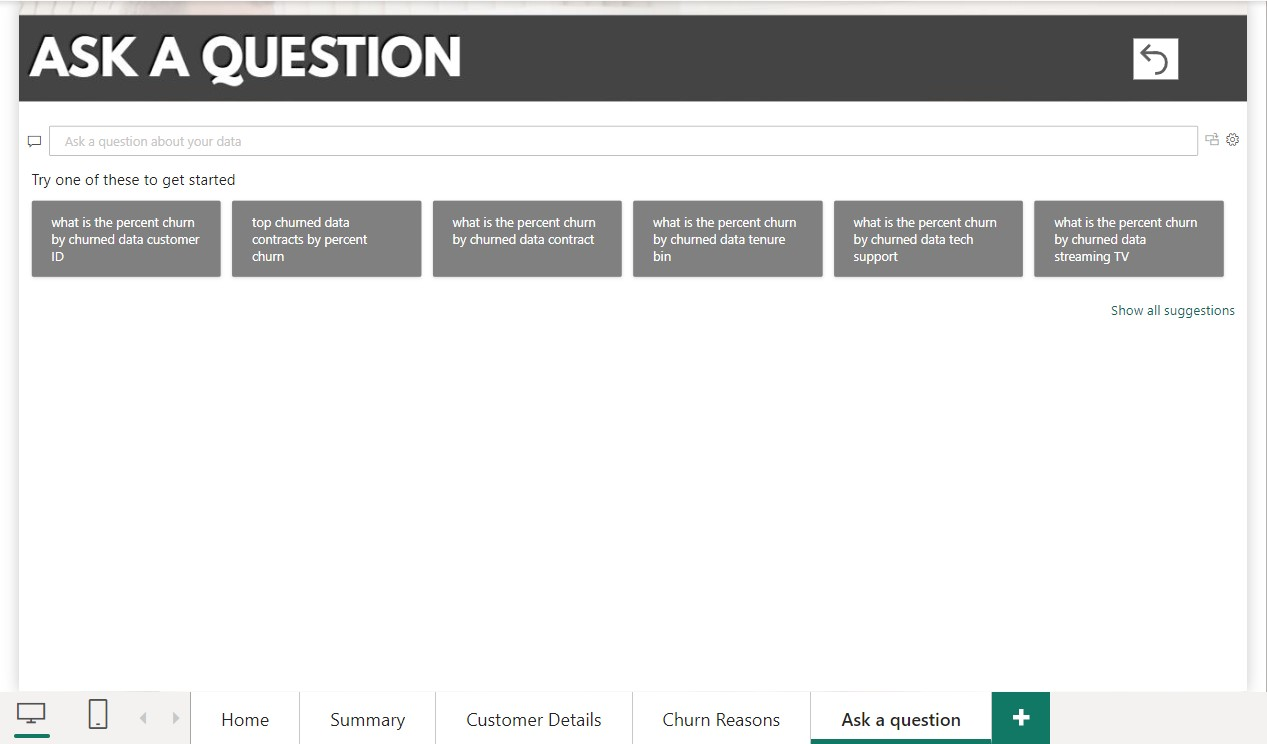

What the dashboard file says about the page in this screenshot:
{"tool":"powerbi","page":{"name":"Ask a question","canvas":[1280,720],"ordinal":4},"visuals":[{"type":"qnaVisual","box":[0,105.1,1280,614.9],"z":0},{"type":"actionButton","box":[1161.8,39.4,46.6,43],"z":1000}]}

Visuals, with their boxes on the page's 1280x720 design canvas (x1, y1, x2, y2). These are canvas units, not pixel positions in the 1267x744 screenshot, which may show the page scaled, cropped or inside an application window:
qnaVisual: x1=0, y1=105, x2=1280, y2=720
actionButton: x1=1162, y1=39, x2=1208, y2=82
